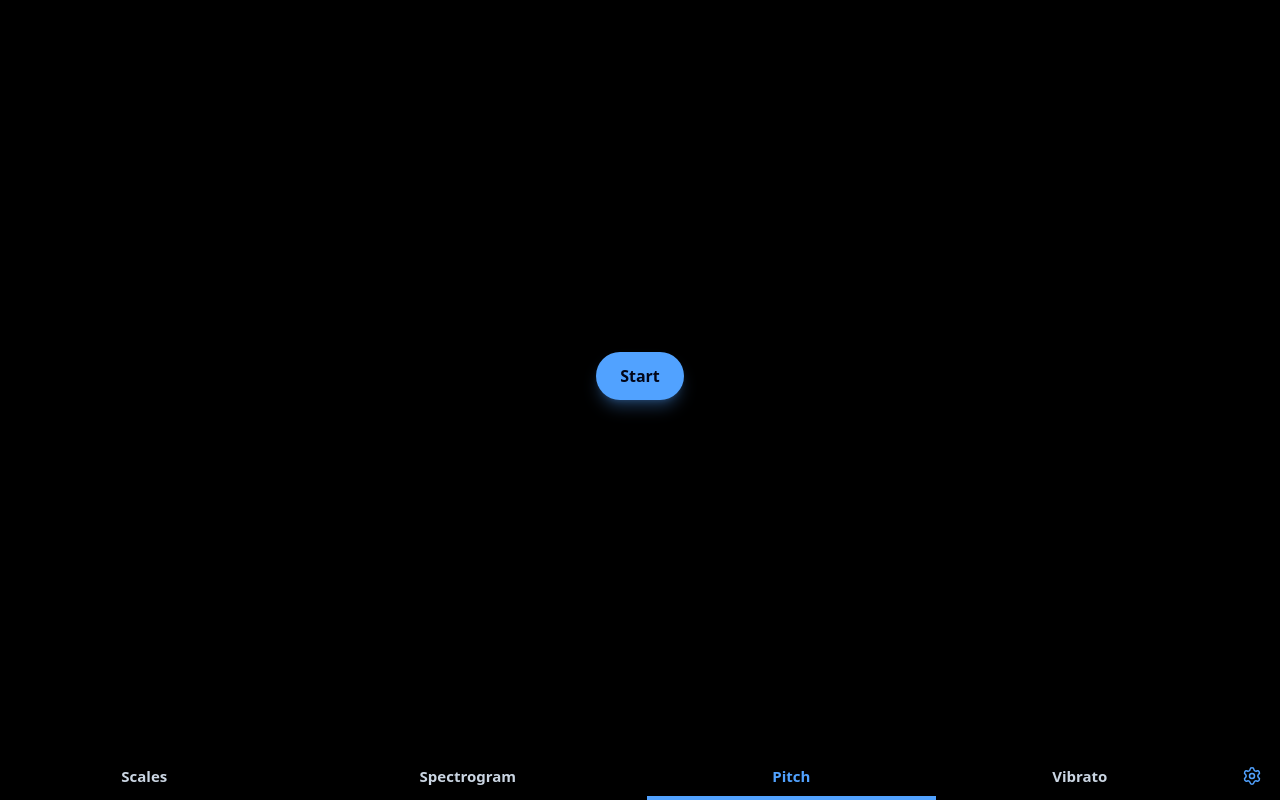
Test: Microphone selection › Settings hide the microphone selector until device names become available
Click the button named "Open settings" at (1252, 776), box [1232,752,1272,799]
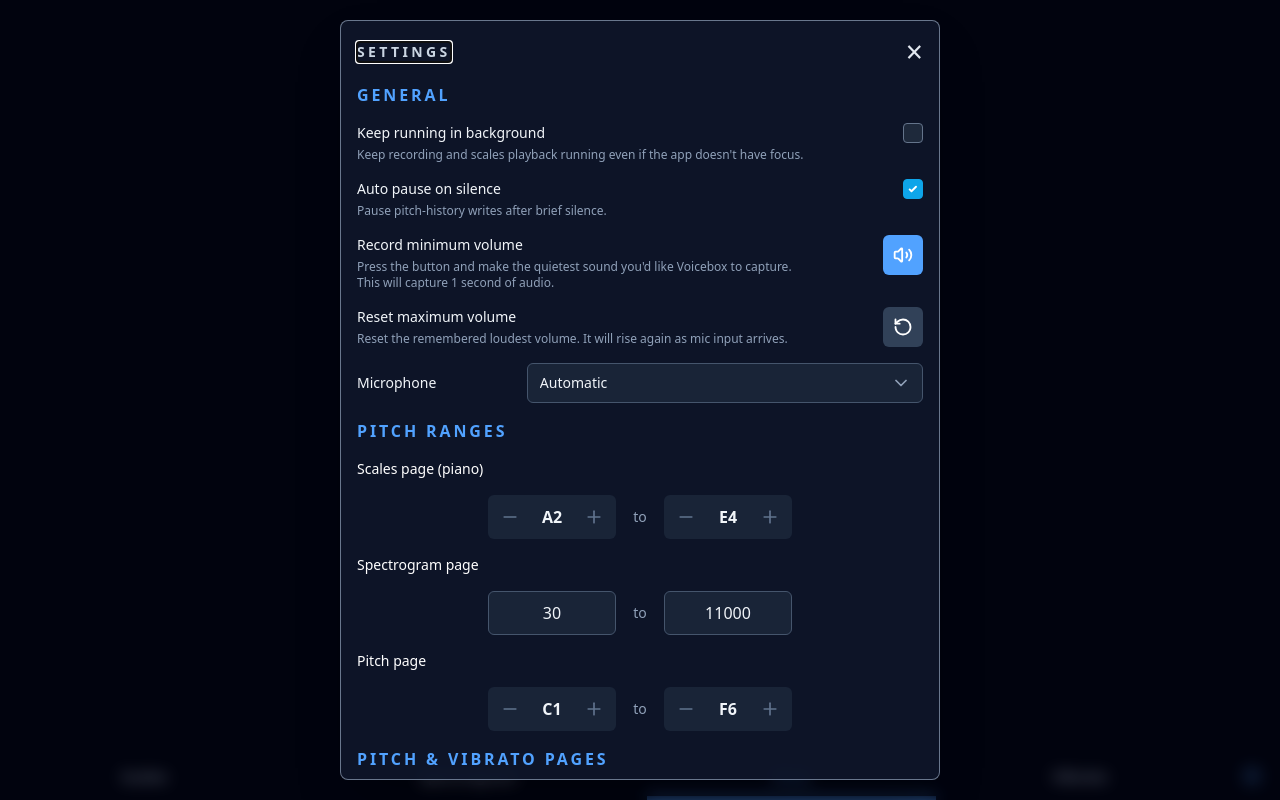
expect the dropdown labelled "Microphone" is shown: met, box [527,363,923,403]
